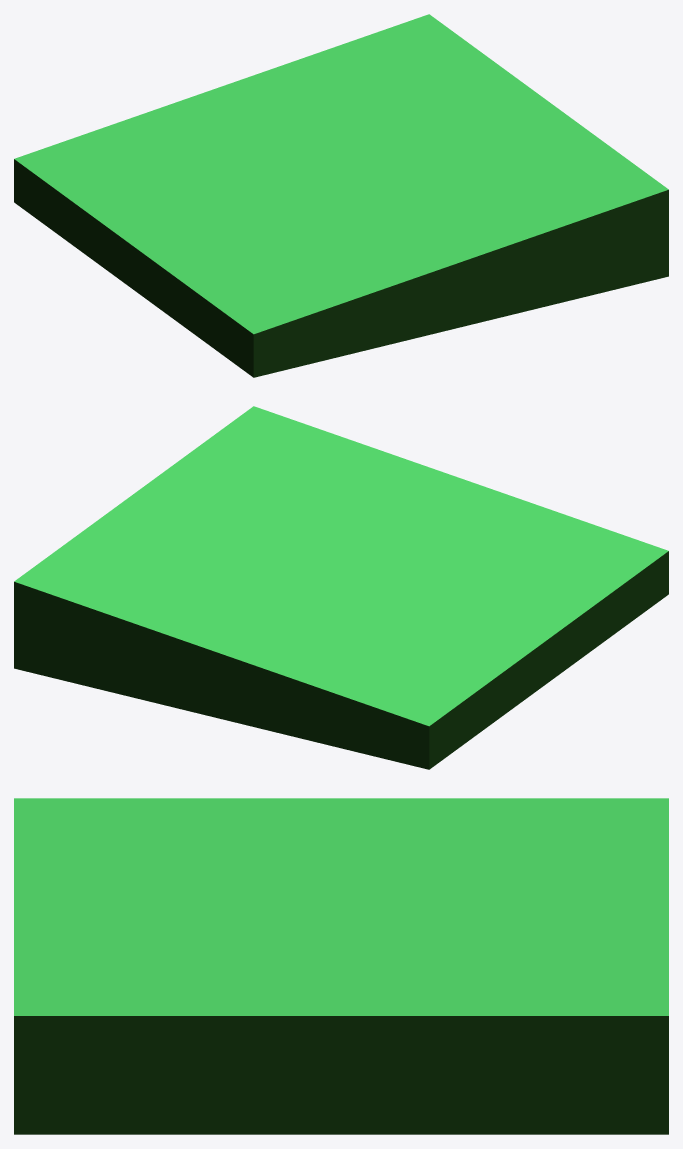
Rendered from MG Raised 1.fbx.
3 renders of one model, top to bottom at view 1: azimuth 30°, elevation 25°; view 2: azimuth 150°, elevation 25°; view 3: azimuth 270°, elevation 25°, orthographic. The views are drawn at different scales.
Visible parts, largest first — view 1: MG Raised 1; view 2: MG Raised 1; view 3: MG Raised 1.
Part boxes in pixels (box(x1,y1,x2,y2)): MG Raised 1: box(14, 14, 668, 377); MG Raised 1: box(14, 406, 668, 769); MG Raised 1: box(14, 798, 668, 1134).
Size of the model in its own units: 200 by 40 by 200.
